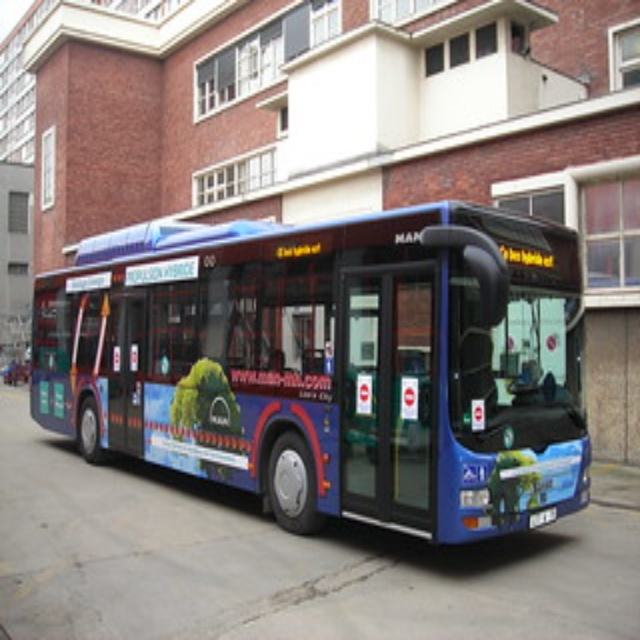Bus: (30, 195, 592, 549)
